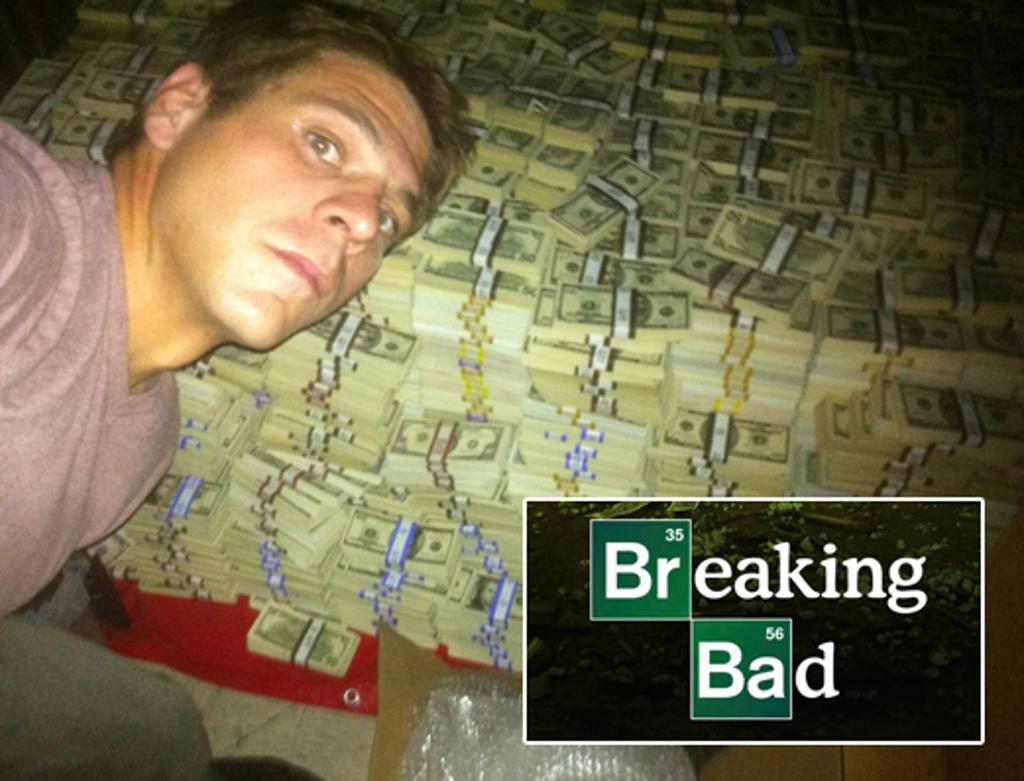face: (178, 50, 440, 350)
